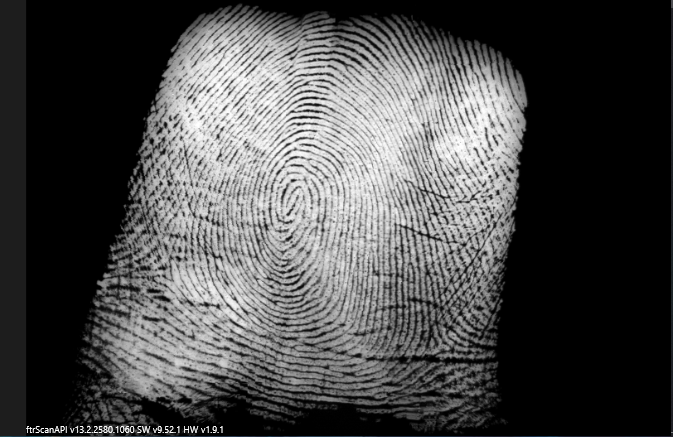nucelo: (274, 179, 306, 220)
verticilo: (424, 329, 461, 360), (149, 262, 183, 293)
